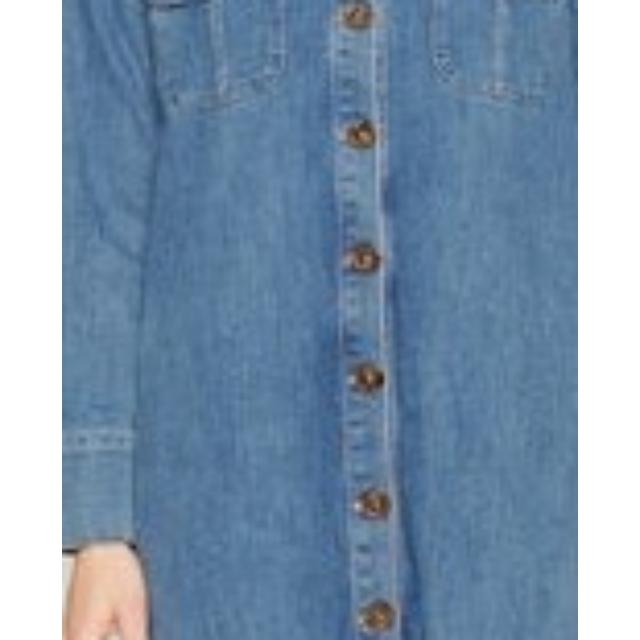denim: (62, 0, 578, 640)
